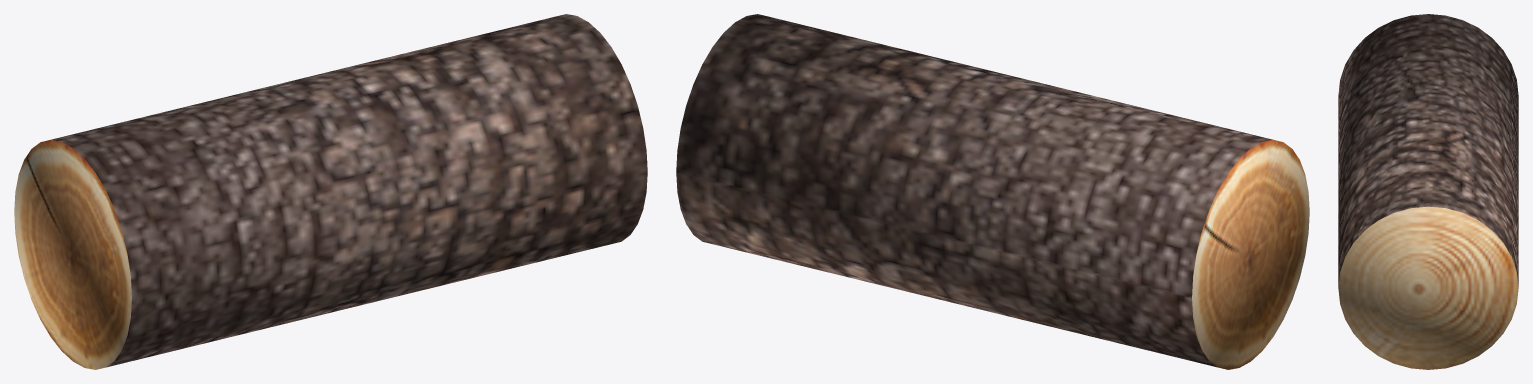
The model's file is Log_01.fbx.
3 views of the same model, side by side, from view 1: azimuth 30°, elevation 25°; view 2: azimuth 150°, elevation 25°; view 3: azimuth 270°, elevation 25° (orthographic). The views are drawn at different scales.
Parts seen in each view (by area): view 1: Cylinder; view 2: Cylinder; view 3: Cylinder.
Boxes of the visible parts, box(x1,y1,x2,y2) form: Cylinder: box(14, 14, 647, 369); Cylinder: box(676, 14, 1309, 369); Cylinder: box(1338, 14, 1518, 369).
Bounding box in the file's own units: 506 × 200 × 200.
